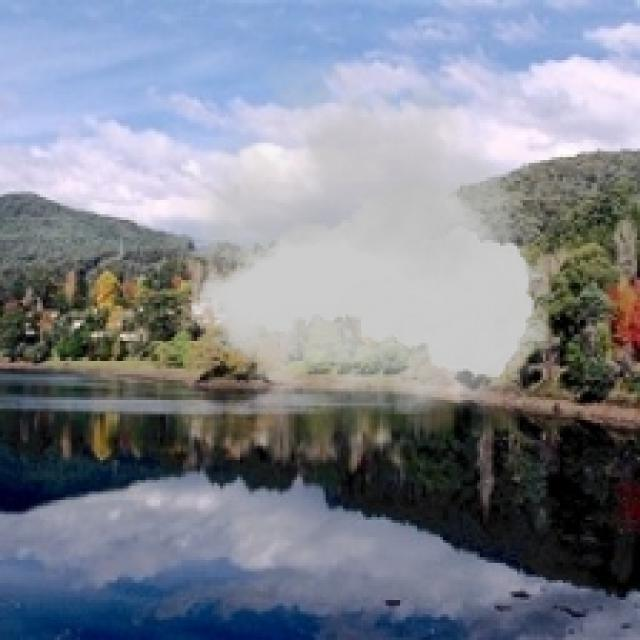smoke: (166, 37, 560, 446)
